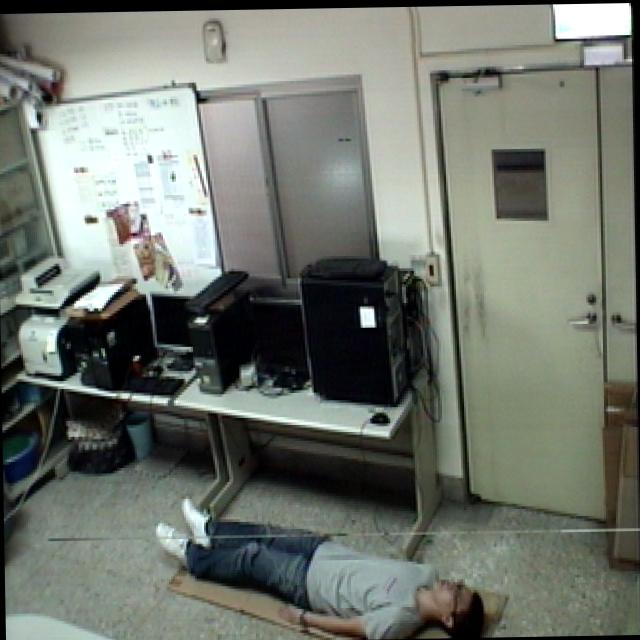lie: (154, 479, 491, 640)
